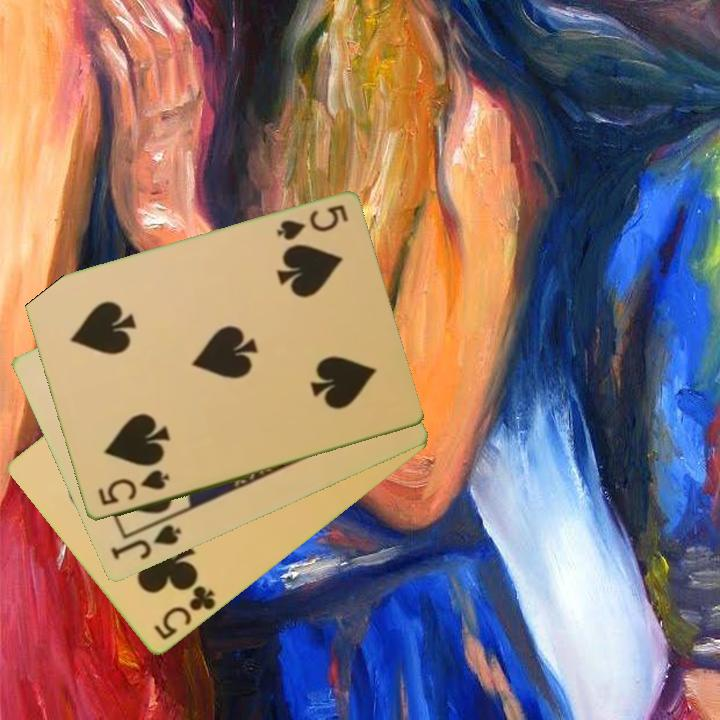5c: (150, 582, 219, 644)
5s: (94, 466, 173, 509), (272, 202, 351, 244)
Js: (107, 521, 184, 563)
